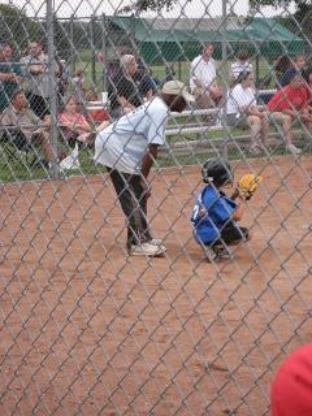person: (79, 76, 196, 266), (190, 150, 269, 271)
